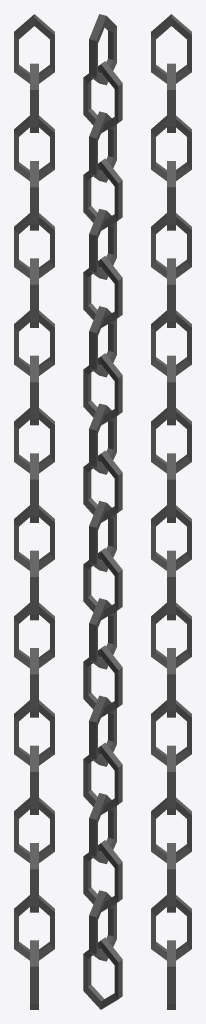
The model's file is Chain_straight.fbx.
3 renders of one model, left to right at view 1: azimuth 90°, elevation 25°; view 2: azimuth 150°, elevation 25°; view 3: azimuth 270°, elevation 25°, orthographic.
Visible parts, largest first — view 1: Chain_straight; view 2: Chain_straight; view 3: Chain_straight.
Part boxes in pixels (bbox=[...]): Chain_straight: bbox=[14, 14, 54, 1009]; Chain_straight: bbox=[83, 14, 122, 1009]; Chain_straight: bbox=[151, 14, 191, 1009].
Size of the model in its own units: 7.01 by 189 by 7.01.
1 material, 1 textured.
